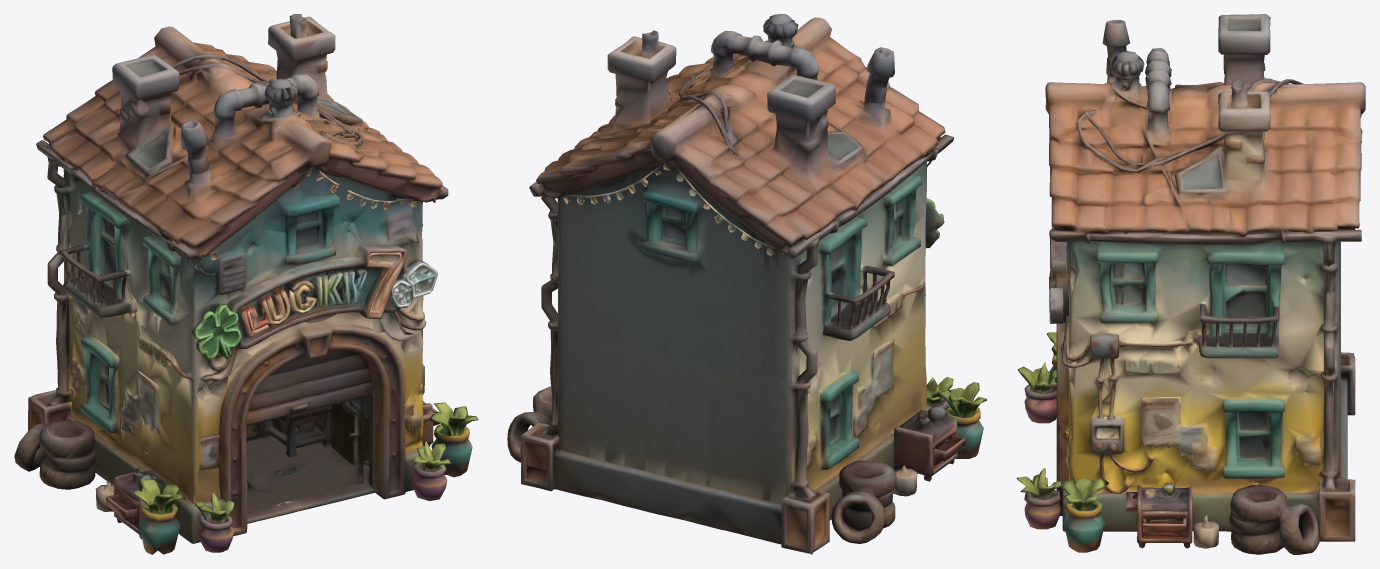
Rendered from garage_lucky7.glb.
The picture shows the model from 3 angles, left to right: view 1: azimuth 30°, elevation 25°; view 2: azimuth 150°, elevation 25°; view 3: azimuth 270°, elevation 25°; orthographic projection. The views are drawn at different scales.
Visible parts, largest first — view 1: tripo_part_0, tripo_part_1, tripo_part_3, tripo_part_12, tripo_part_7, tripo_part_13, tripo_part_17, tripo_part_18, tripo_part_4, tripo_part_16, tripo_part_20, tripo_part_8 (+1 smaller); view 2: tripo_part_0, tripo_part_1, tripo_part_13, tripo_part_4, tripo_part_8, tripo_part_15, tripo_part_17, tripo_part_14, tripo_part_23, tripo_part_12, tripo_part_16, tripo_part_33; view 3: tripo_part_0, tripo_part_1, tripo_part_14, tripo_part_2, tripo_part_18, tripo_part_15, tripo_part_3, tripo_part_20, tripo_part_16, tripo_part_12, tripo_part_8, tripo_part_30.
Part boxes in pixels (x1=…): tripo_part_0: x1=47, y1=167, x2=426, y2=543; tripo_part_1: x1=36, y1=14, x2=448, y2=260; tripo_part_3: x1=218, y1=312, x2=411, y2=536; tripo_part_12: x1=191, y1=244, x2=437, y2=359; tripo_part_7: x1=246, y1=435, x2=374, y2=523; tripo_part_13: x1=14, y1=420, x2=95, y2=489; tripo_part_17: x1=132, y1=479, x2=185, y2=554; tripo_part_18: x1=430, y1=402, x2=478, y2=477; tripo_part_4: x1=105, y1=468, x2=176, y2=539; tripo_part_16: x1=195, y1=493, x2=234, y2=552; tripo_part_20: x1=410, y1=441, x2=451, y2=500; tripo_part_8: x1=28, y1=390, x2=71, y2=430; tripo_part_0: x1=541, y1=160, x2=931, y2=544; tripo_part_1: x1=529, y1=14, x2=953, y2=274; tripo_part_13: x1=831, y1=460, x2=896, y2=543; tripo_part_4: x1=893, y1=407, x2=965, y2=481; tripo_part_8: x1=781, y1=489, x2=829, y2=554; tripo_part_15: x1=520, y1=422, x2=559, y2=491; tripo_part_17: x1=938, y1=382, x2=986, y2=458; tripo_part_14: x1=507, y1=386, x2=552, y2=462; tripo_part_23: x1=674, y1=166, x2=777, y2=255; tripo_part_12: x1=925, y1=198, x2=944, y2=248; tripo_part_16: x1=926, y1=377, x2=953, y2=409; tripo_part_33: x1=893, y1=465, x2=917, y2=496; tripo_part_0: x1=1060, y1=241, x2=1348, y2=531; tripo_part_1: x1=1045, y1=14, x2=1365, y2=266; tripo_part_14: x1=1229, y1=484, x2=1319, y2=554; tripo_part_2: x1=1126, y1=483, x2=1192, y2=548; tripo_part_18: x1=1060, y1=477, x2=1108, y2=552; tripo_part_15: x1=1316, y1=478, x2=1355, y2=541; tripo_part_3: x1=1049, y1=276, x2=1068, y2=515; tripo_part_20: x1=1017, y1=468, x2=1061, y2=529; tripo_part_16: x1=1017, y1=362, x2=1056, y2=423; tripo_part_12: x1=1049, y1=197, x2=1068, y2=323; tripo_part_8: x1=1340, y1=352, x2=1355, y2=415; tripo_part_30: x1=1193, y1=515, x2=1218, y2=548.
Size of the model in its own units: 0.8986 by 0.9814 by 0.7292.
1 material, 1 textured.
